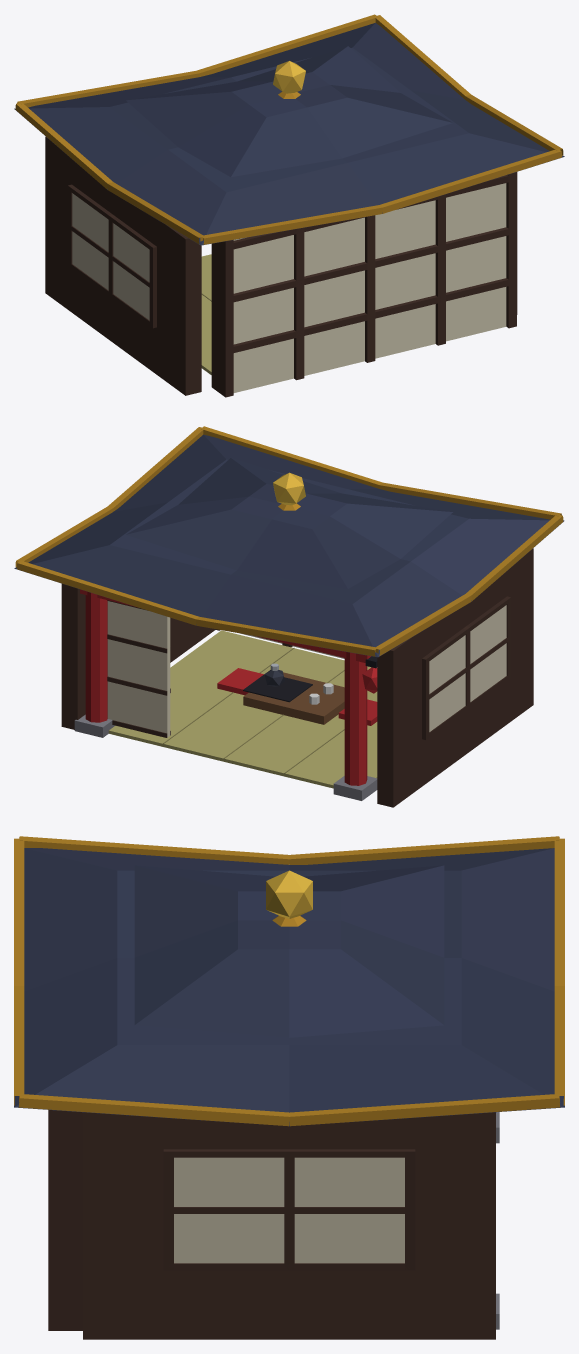
Rendered from Decor_NinjaDojo_Teahouse.fbx.
3 views of the same model, one above another, from view 1: azimuth 30°, elevation 25°; view 2: azimuth 150°, elevation 25°; view 3: azimuth 270°, elevation 25° (orthographic). The views are drawn at different scales.
Parts seen in each view (by area): view 1: Teahouse_Body, Teahouse_Roof; view 2: Teahouse_Roof, Teahouse_Body; view 3: Teahouse_Roof, Teahouse_Body.
Part boxes in pixels (<box>): Teahouse_Body: <box>45,136,517,397</box>; Teahouse_Roof: <box>14,14,564,245</box>; Teahouse_Roof: <box>14,426,564,657</box>; Teahouse_Body: <box>61,548,533,807</box>; Teahouse_Roof: <box>14,836,564,1126</box>; Teahouse_Body: <box>48,1110,499,1339</box>.
Size of the model in its own units: 18 by 11.4 by 16.
